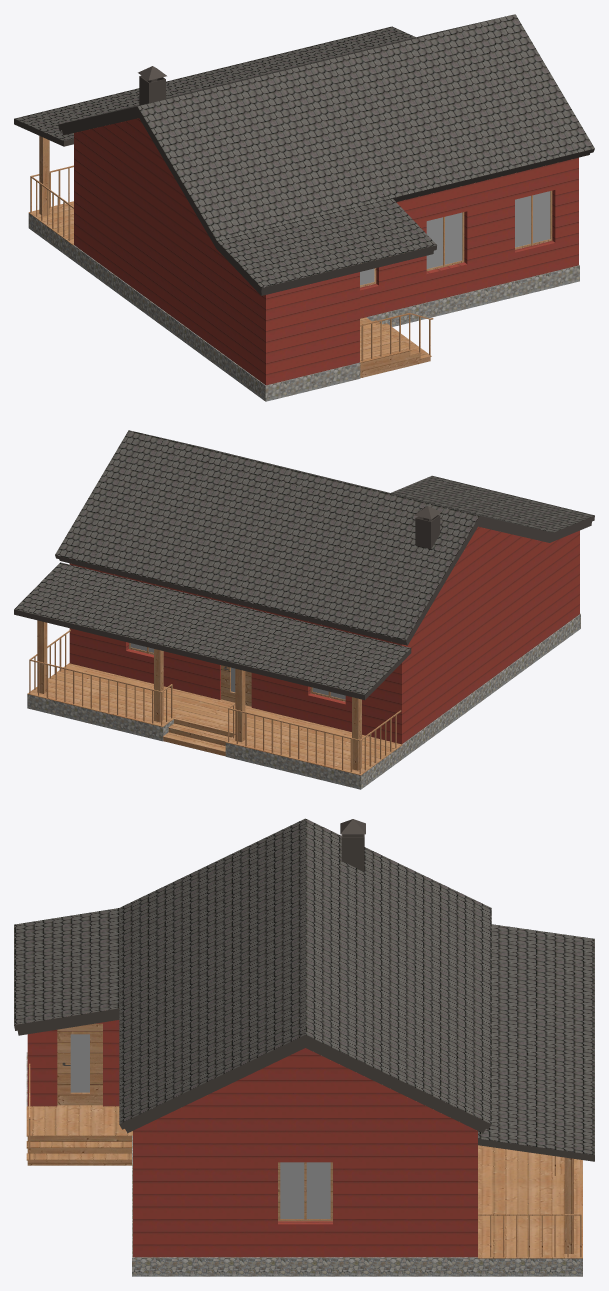
The model's file is house9.glb.
3 renders of one model, top to bottom at view 1: azimuth 30°, elevation 25°; view 2: azimuth 150°, elevation 25°; view 3: azimuth 270°, elevation 25°, orthographic. The views are drawn at different scales.
Parts seen in each view (by area): view 1: object 2, object 64, Component#3; view 2: object 2, object 64, Component#5 (×2), Component#3 (×2); view 3: object 2, object 64, Component#5.
Part boxes in pixels (x1,y1,x2,y2): object 2: [28, 14, 594, 401]; object 64: [14, 26, 415, 146]; Component#3: [39, 136, 49, 216]; object 2: [27, 430, 594, 789]; object 64: [14, 562, 411, 700]; Component#5 (×2): [37, 620, 245, 742]; Component#3 (×2): [154, 649, 361, 770]; object 2: [14, 818, 582, 1276]; object 64: [478, 924, 594, 1161]; Component#5: [564, 1157, 573, 1253].
Size of the model in its own units: 11.2 by 6.44 by 12.71.
7 materials, 4 textured.
